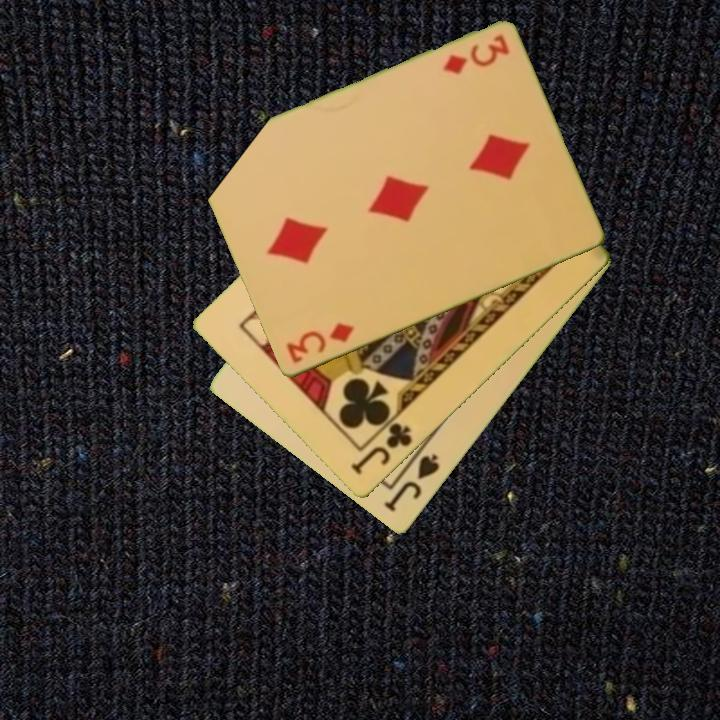3d: (282, 319, 357, 367), (438, 31, 513, 79)
Jc: (347, 419, 416, 479)
Js: (380, 450, 443, 515)
